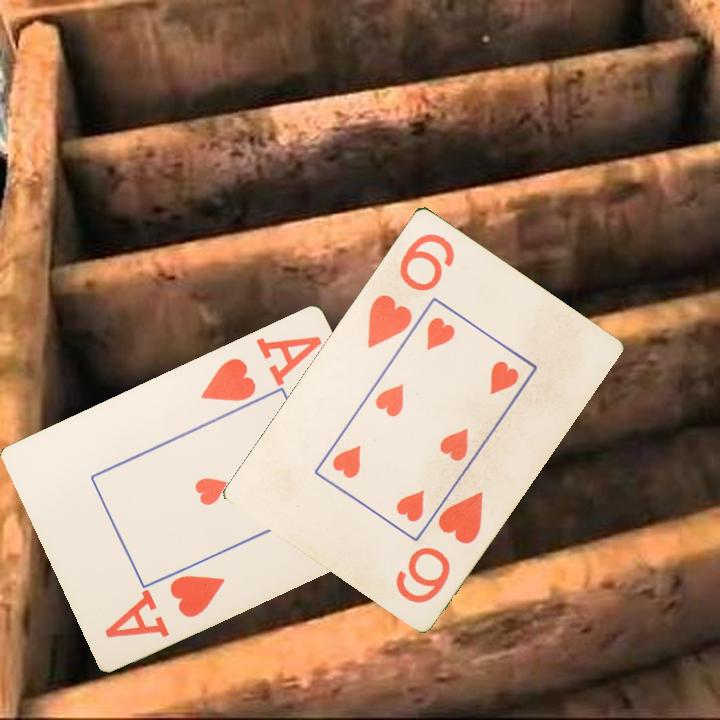6h: (363, 229, 458, 351), (391, 487, 487, 606)
Ah: (196, 332, 325, 404), (101, 570, 228, 641)
